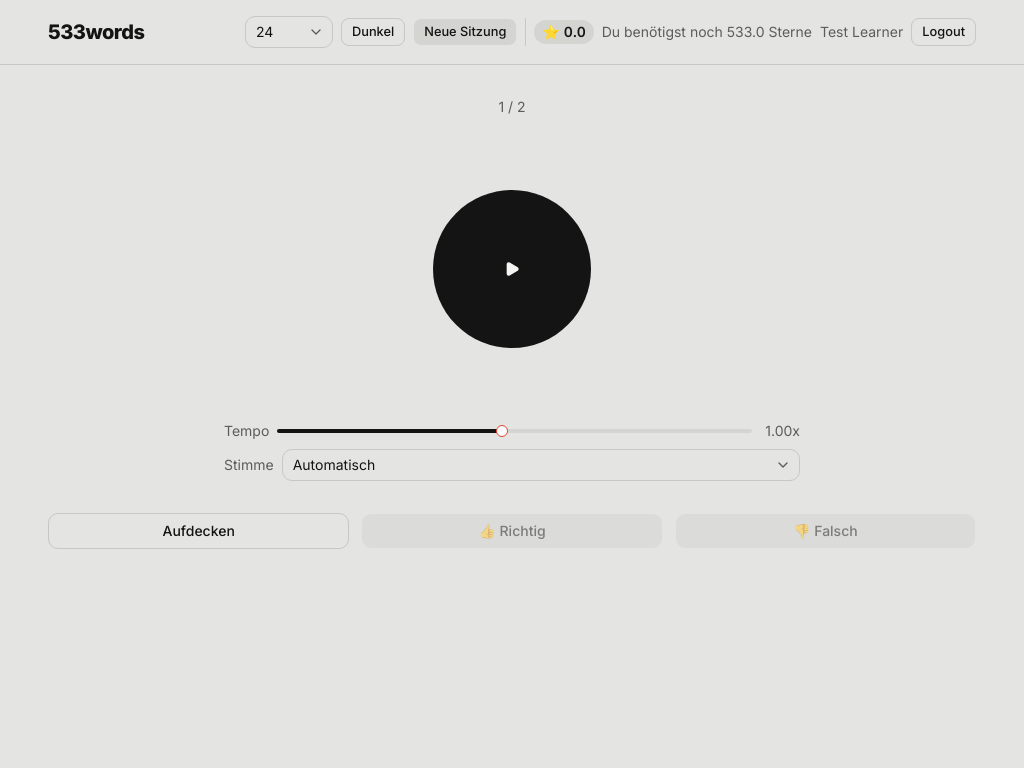
Test: Home practice screen › shows the Play control before reveal and the word text after reveal (mutually exclusive)
Check: the button named "abspielen" is shown, box top-left (432, 189), bottom-right (592, 349)
Click the button "Aufdecken" at (199, 531), box top-left (48, 513), bottom-right (349, 549)
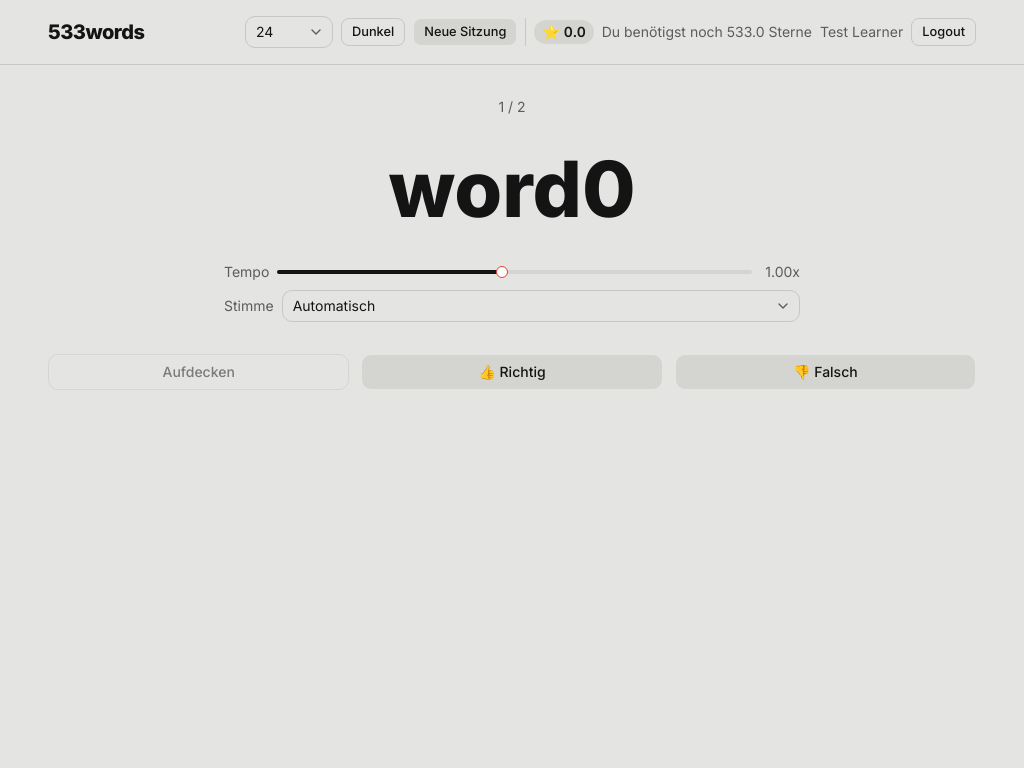
Check: the text "word0" is shown, box top-left (388, 149), bottom-right (636, 230)
